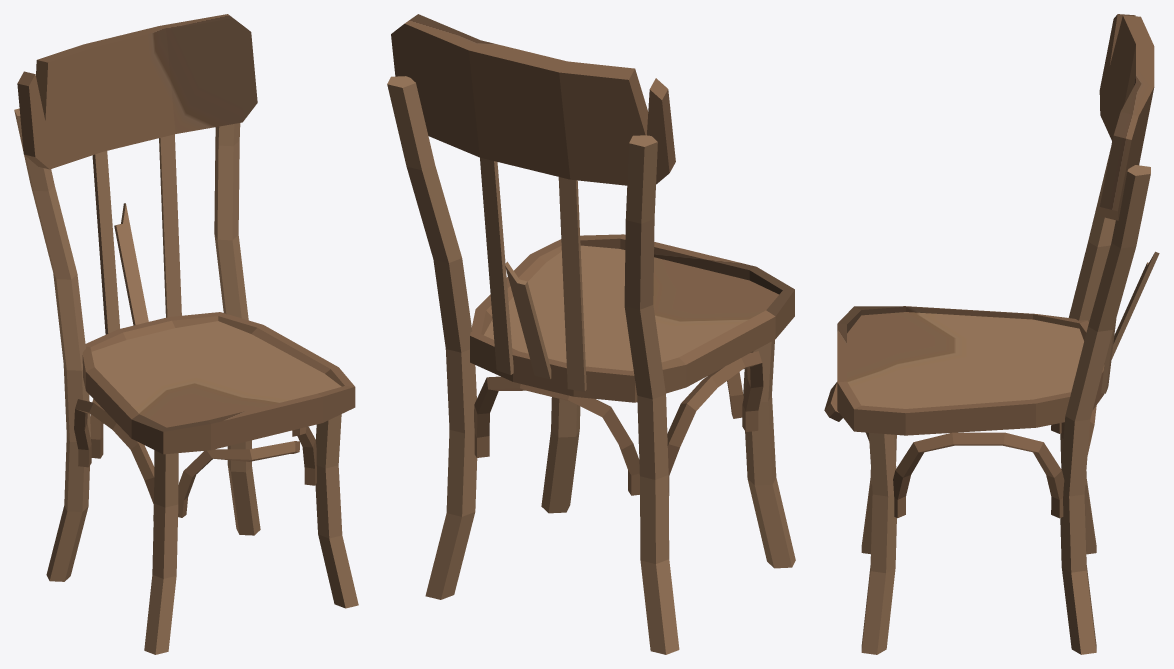
File: SM_Chair.fbx
3 views of the same model, side by side, from view 1: azimuth 30°, elevation 25°; view 2: azimuth 150°, elevation 25°; view 3: azimuth 270°, elevation 25° (orthographic). The views are drawn at different scales.
Parts seen in each view (by area): view 1: SM_Chair; view 2: SM_Chair; view 3: SM_Chair.
Part boxes in pixels (left/top/right/bottom): SM_Chair: left=14, top=14, right=358, bottom=654; SM_Chair: left=387, top=14, right=795, bottom=654; SM_Chair: left=824, top=14, right=1159, bottom=654.
Bounding box in the file's own units: 56.12 × 117 × 66.26.
